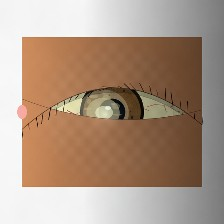corneal_ulcer: (76, 91, 130, 134)
